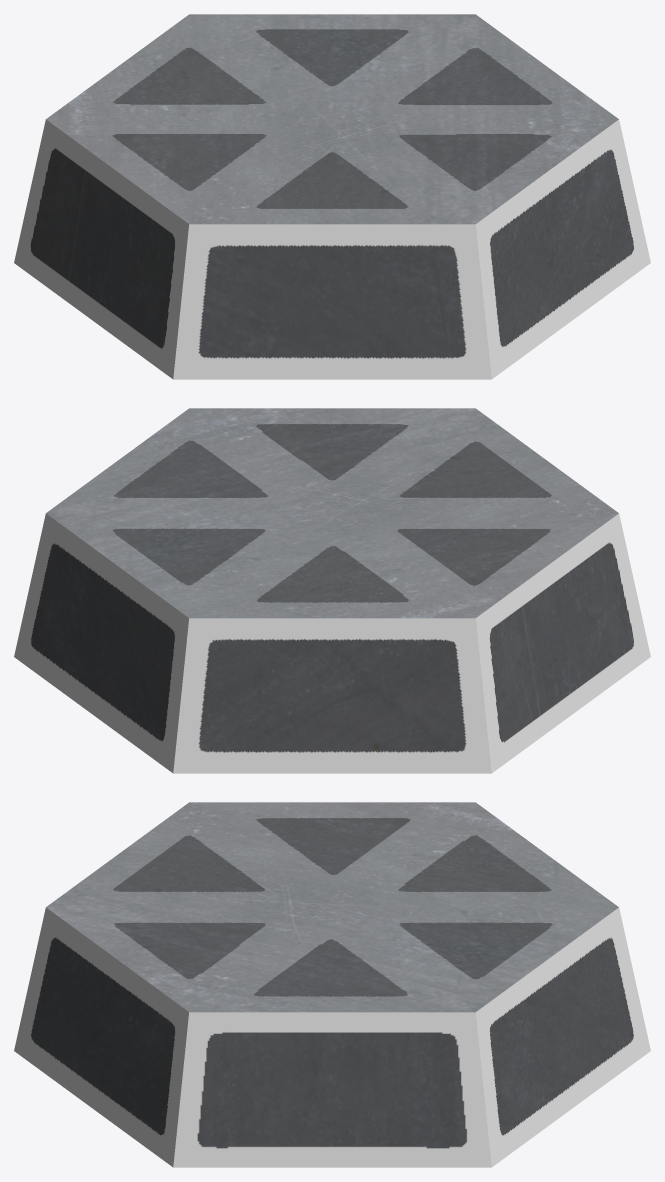
The model's file is Hex.fbx.
3 views of the same model, one above another, from view 1: azimuth 30°, elevation 25°; view 2: azimuth 150°, elevation 25°; view 3: azimuth 270°, elevation 25° (orthographic).
Visible parts, largest first — view 1: Hex; view 2: Hex; view 3: Hex.
Part boxes in pixels (box(x1,y1,x2,y2)): Hex: box(14, 14, 650, 379); Hex: box(14, 408, 650, 773); Hex: box(14, 802, 650, 1167).
Size of the model in its own units: 34.64 by 9.96 by 40.
